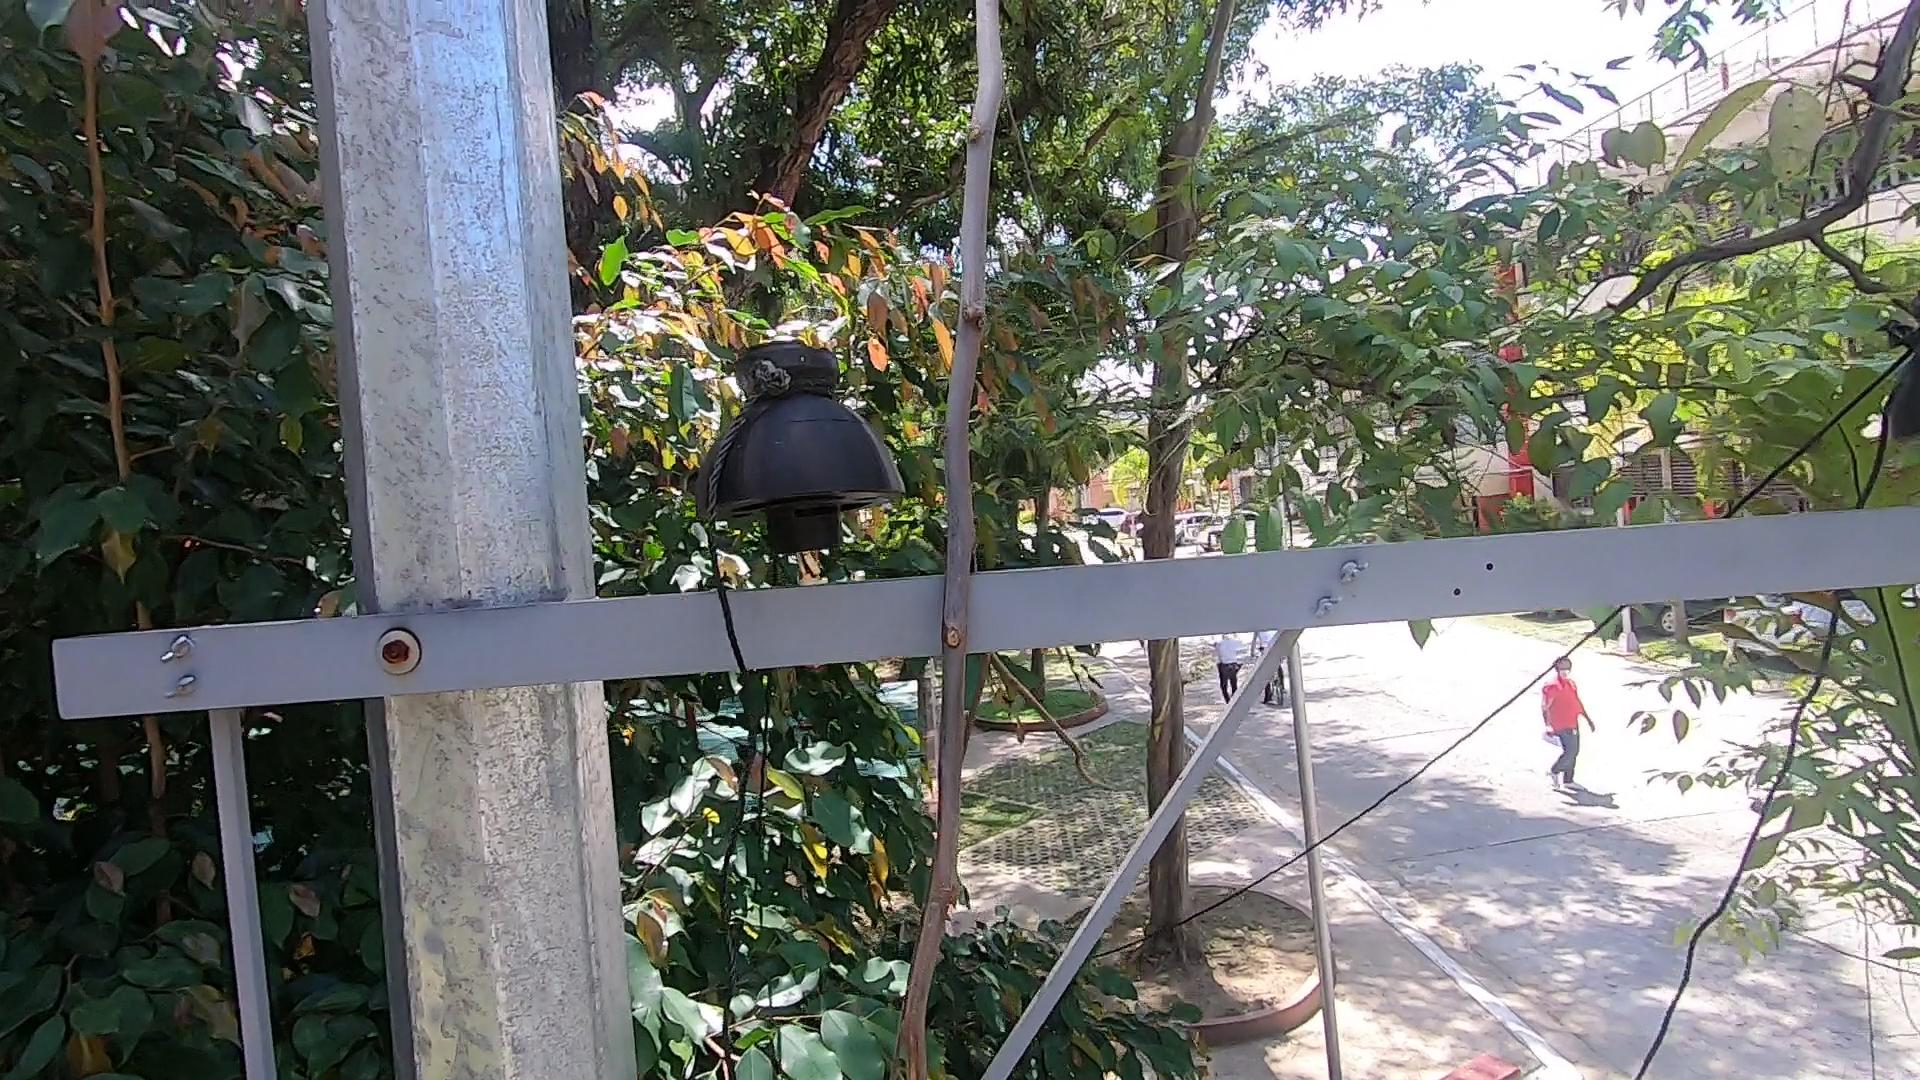tree branch: (869, 3, 1097, 1077)
